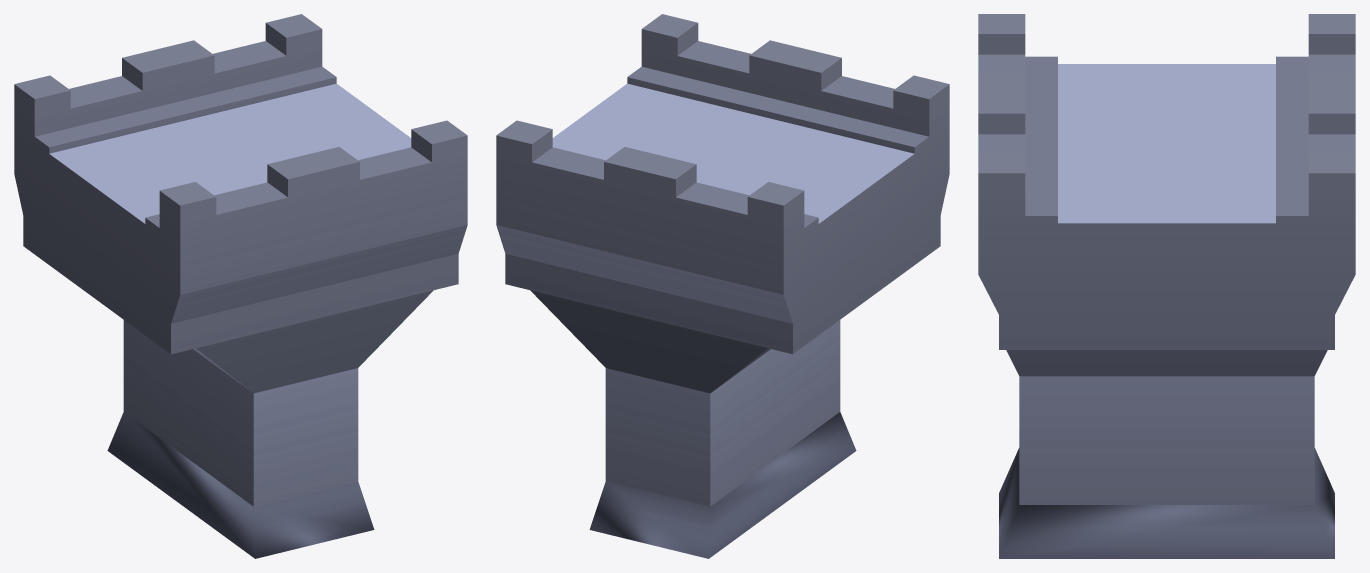
The model's file is bridge-straight-pillar.fbx.
The picture shows the model from 3 angles, left to right: view 1: azimuth 30°, elevation 25°; view 2: azimuth 150°, elevation 25°; view 3: azimuth 270°, elevation 25°; orthographic projection. The views are drawn at different scales.
Parts seen in each view (by area): view 1: bridge-straight-pillar; view 2: bridge-straight-pillar; view 3: bridge-straight-pillar.
Part boxes in pixels (bbox=[...]): bridge-straight-pillar: bbox=[14, 14, 467, 558]; bridge-straight-pillar: bbox=[496, 14, 949, 558]; bridge-straight-pillar: bbox=[978, 14, 1355, 558].
Size of the model in its own units: 0.93 by 0.93 by 1.18.
